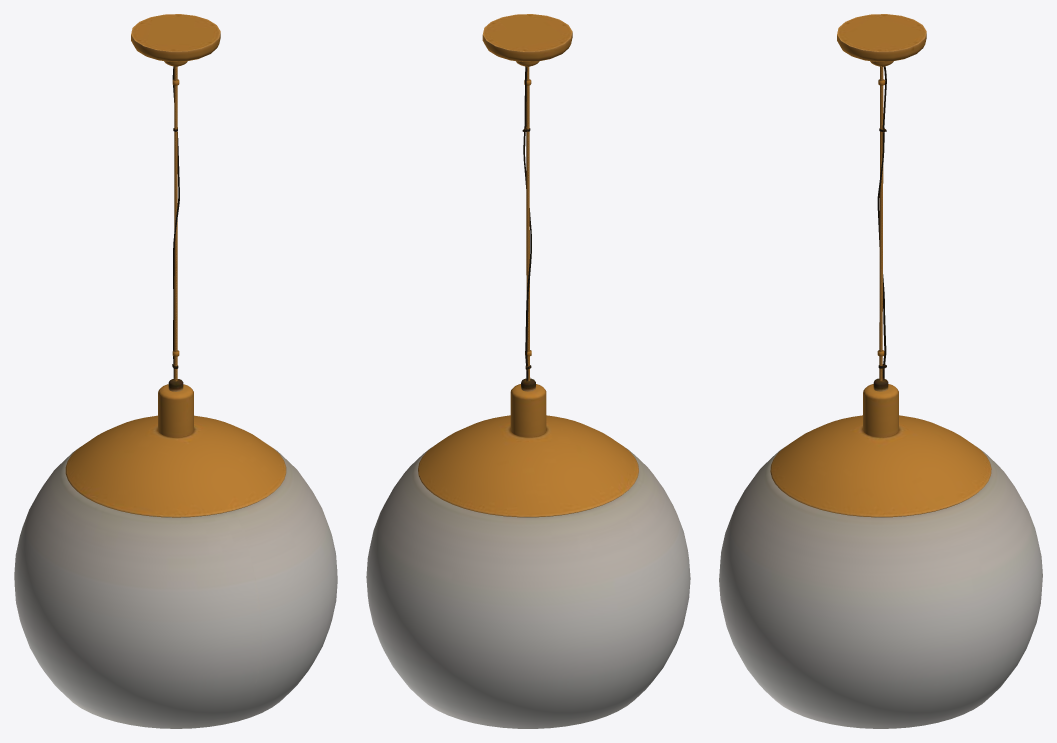
The model's file is globe.glb.
3 views of the same model, side by side, from view 1: azimuth 30°, elevation 25°; view 2: azimuth 150°, elevation 25°; view 3: azimuth 270°, elevation 25° (orthographic).
Visible parts, largest first — view 1: modern_ceiling_lamp_01; view 2: modern_ceiling_lamp_01; view 3: modern_ceiling_lamp_01.
Part boxes in pixels (x1,y1,x2,y2): modern_ceiling_lamp_01: (14, 14, 337, 728); modern_ceiling_lamp_01: (366, 14, 690, 728); modern_ceiling_lamp_01: (719, 14, 1042, 728).
Bounding box in the file's own units: 0.4317 × 0.9516 × 0.4317.
3 materials, 3 textured.
